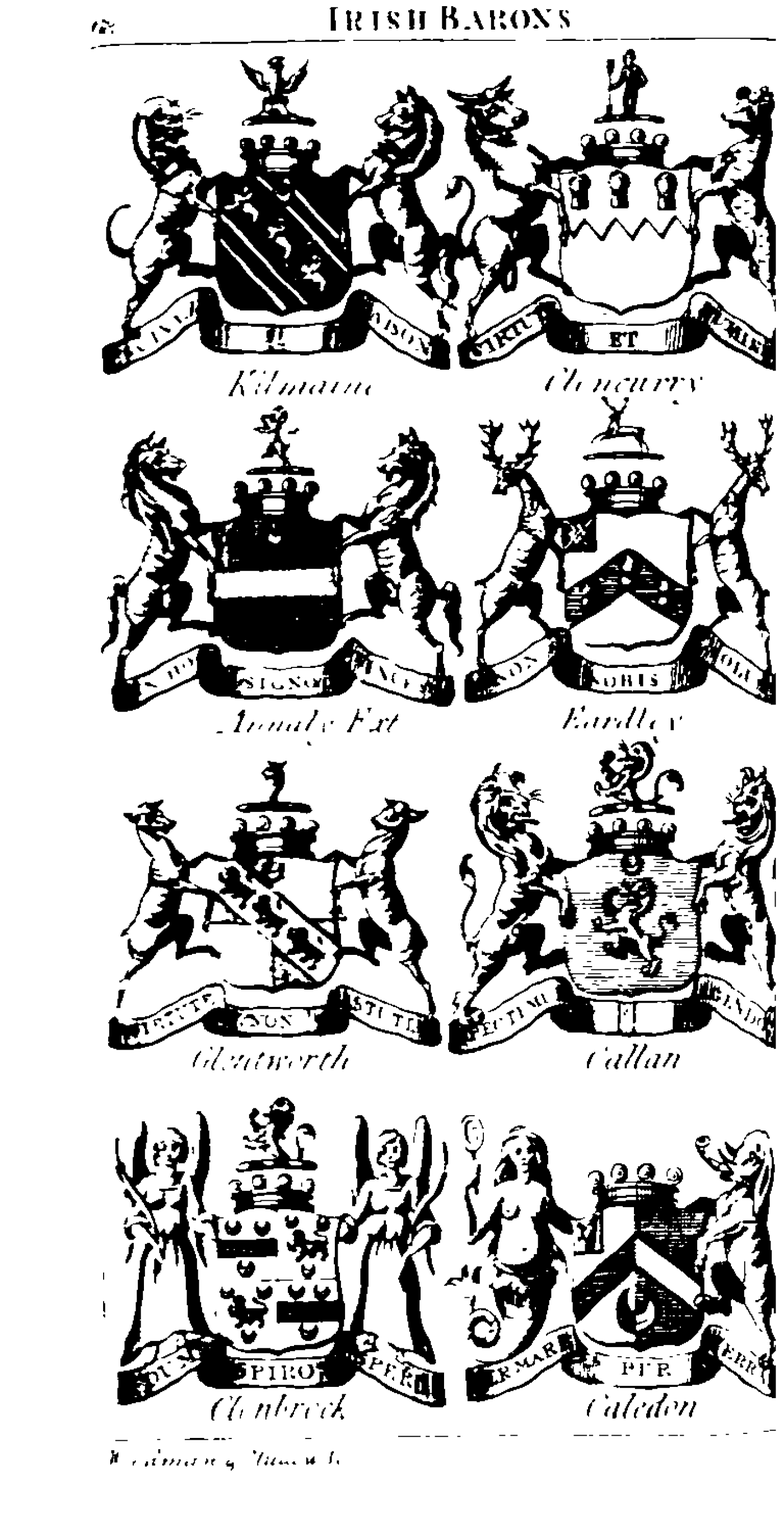coat_of_arms: (100, 50, 456, 406), (94, 410, 460, 746), (100, 1084, 458, 1427), (450, 57, 784, 401), (452, 1089, 784, 1430), (450, 750, 784, 1078), (458, 401, 780, 741), (105, 753, 441, 1078)
